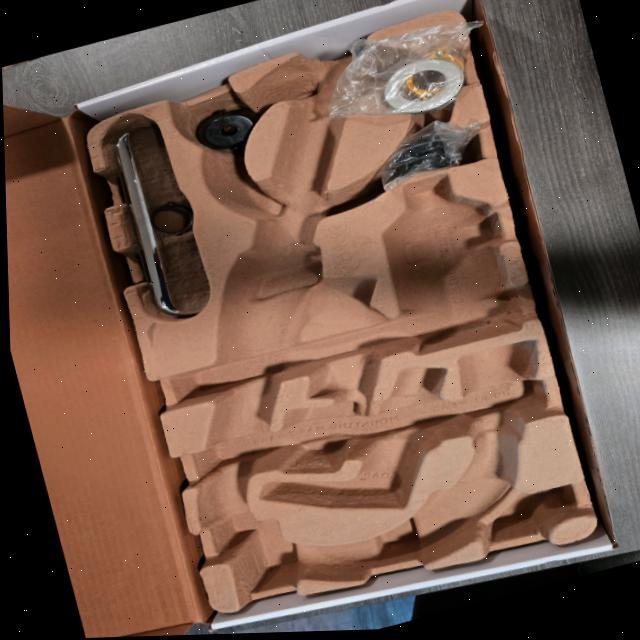1m: (189, 44, 532, 580)
2m: (258, 366, 446, 507)
3m: (379, 172, 515, 355)
4: (116, 124, 207, 315)
5: (195, 107, 252, 146)
6: (328, 21, 481, 116)
7: (378, 119, 479, 190)
